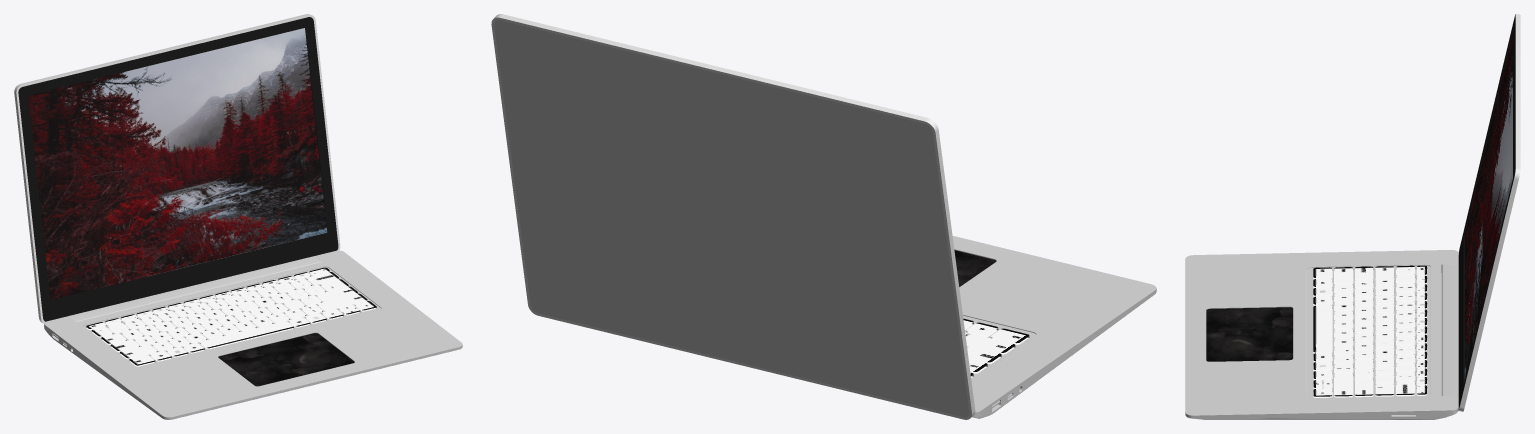
Rendered from laptop.glb.
3 renders of one model, left to right at view 1: azimuth 30°, elevation 25°; view 2: azimuth 150°, elevation 25°; view 3: azimuth 270°, elevation 25°, orthographic. The views are drawn at different scales.
Parts seen in each view (by area): view 1: Screen, Laptop, Screen_Frame, Keyboard; view 2: Screen_Frame, Laptop, Keyboard; view 3: Laptop, Keyboard, Screen, Screen_Frame.
Boxes of the visible parts, x1,y1,x2,y2 form: Screen: [28, 28, 327, 299]; Laptop: [44, 250, 462, 419]; Screen_Frame: [14, 14, 340, 323]; Keyboard: [86, 267, 376, 365]; Screen_Frame: [491, 14, 975, 419]; Laptop: [952, 236, 1156, 418]; Keyboard: [963, 318, 1029, 375]; Laptop: [1185, 250, 1458, 419]; Keyboard: [1313, 265, 1426, 396]; Screen: [1464, 33, 1512, 380]; Screen_Frame: [1458, 14, 1520, 411].
Size of the model in its own units: 0.3395 by 0.2467 by 0.2996.
7 materials, 3 textured.
